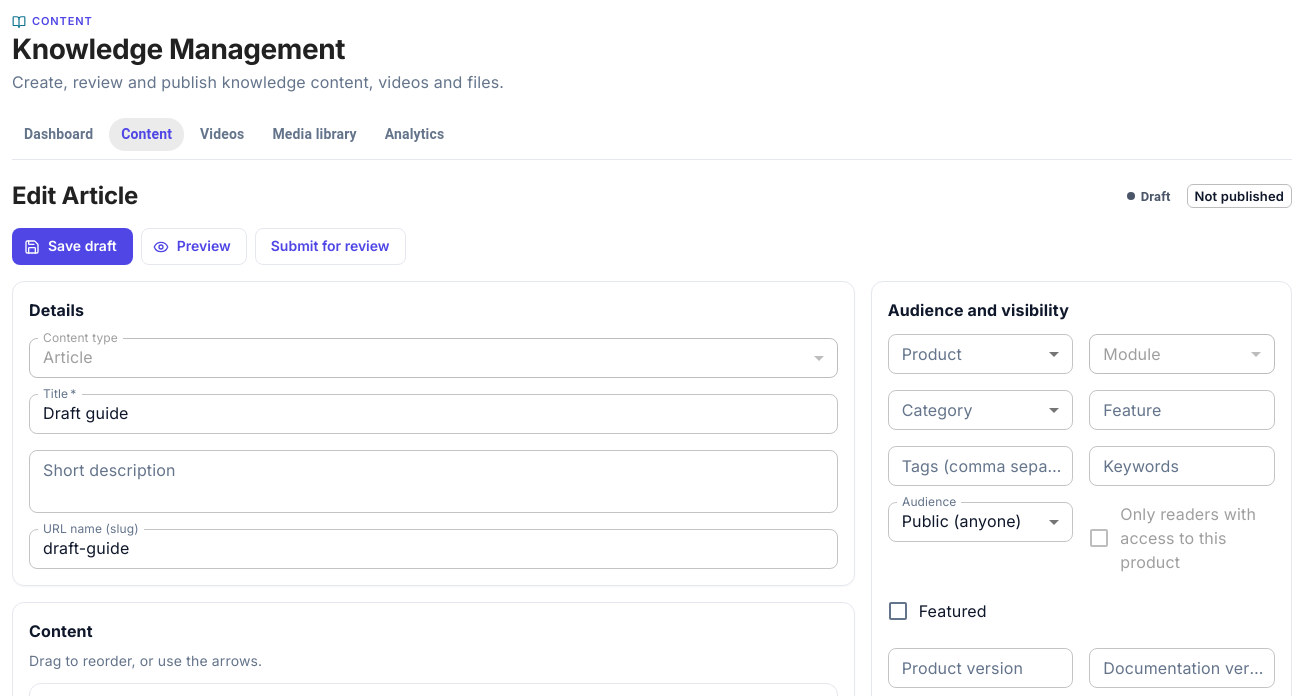
Test case: Knowledge Management › lets a contributor draft and submit, but shows no publisher actions
Expected: the heading "Edit Article" is shown, [12,181,138,210]
Click the button "Save draft". click: [72, 247]
box: [12,228,133,265]
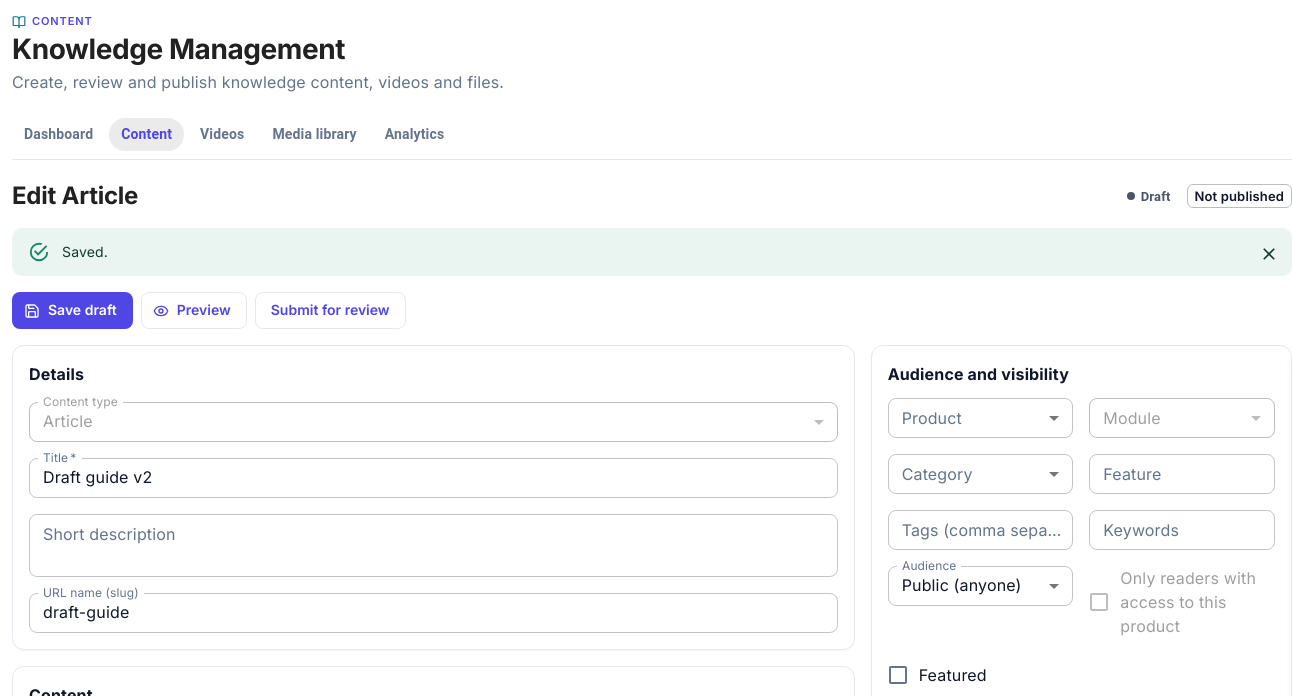
Click the button "Submit for review". click: [330, 311]
box: [255,292,406,329]
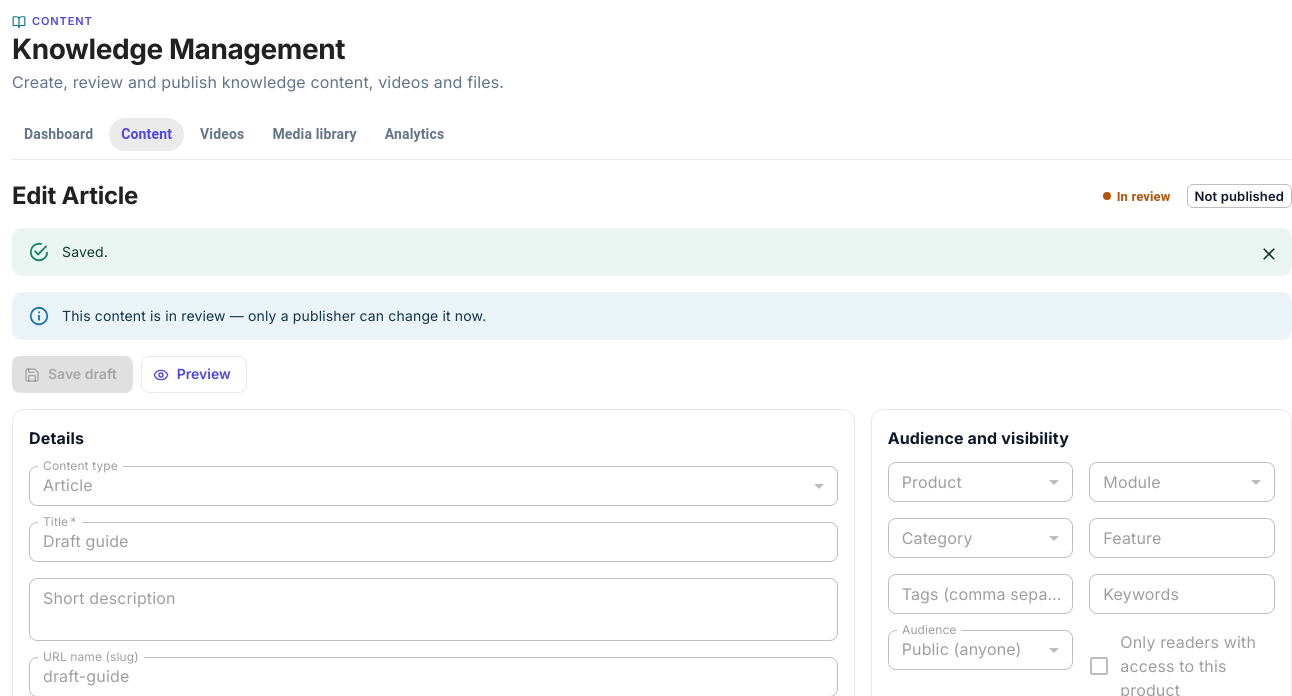
Result: the text "This content is in review — only a publisher can change it now." is shown at [62,307,486,324]
